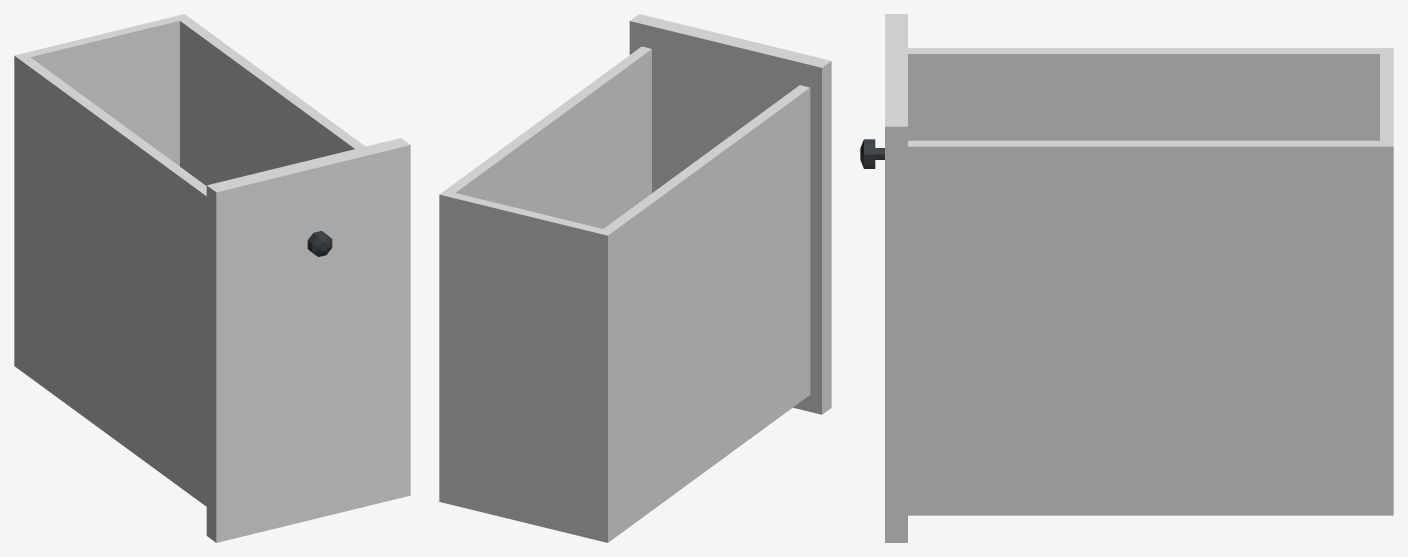
Rendered from Door3_C1_08.fbx.
3 renders of one model, left to right at view 1: azimuth 30°, elevation 25°; view 2: azimuth 150°, elevation 25°; view 3: azimuth 270°, elevation 25°, orthographic. The views are drawn at different scales.
Parts seen in each view (by area): view 1: Door3_C1_08; view 2: Door3_C1_08; view 3: Door3_C1_08.
Boxes of the visible parts, x1,y1,x2,y2 form: Door3_C1_08: (14,14,410,542); Door3_C1_08: (439,14,831,542); Door3_C1_08: (860,14,1393,542).
Bounding box in the file's own units: 29 × 50 × 58.03.
